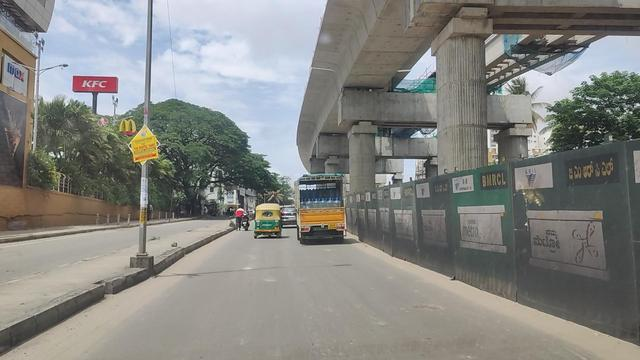HMV: (293, 170, 344, 248)
LMV: (254, 203, 281, 240)
